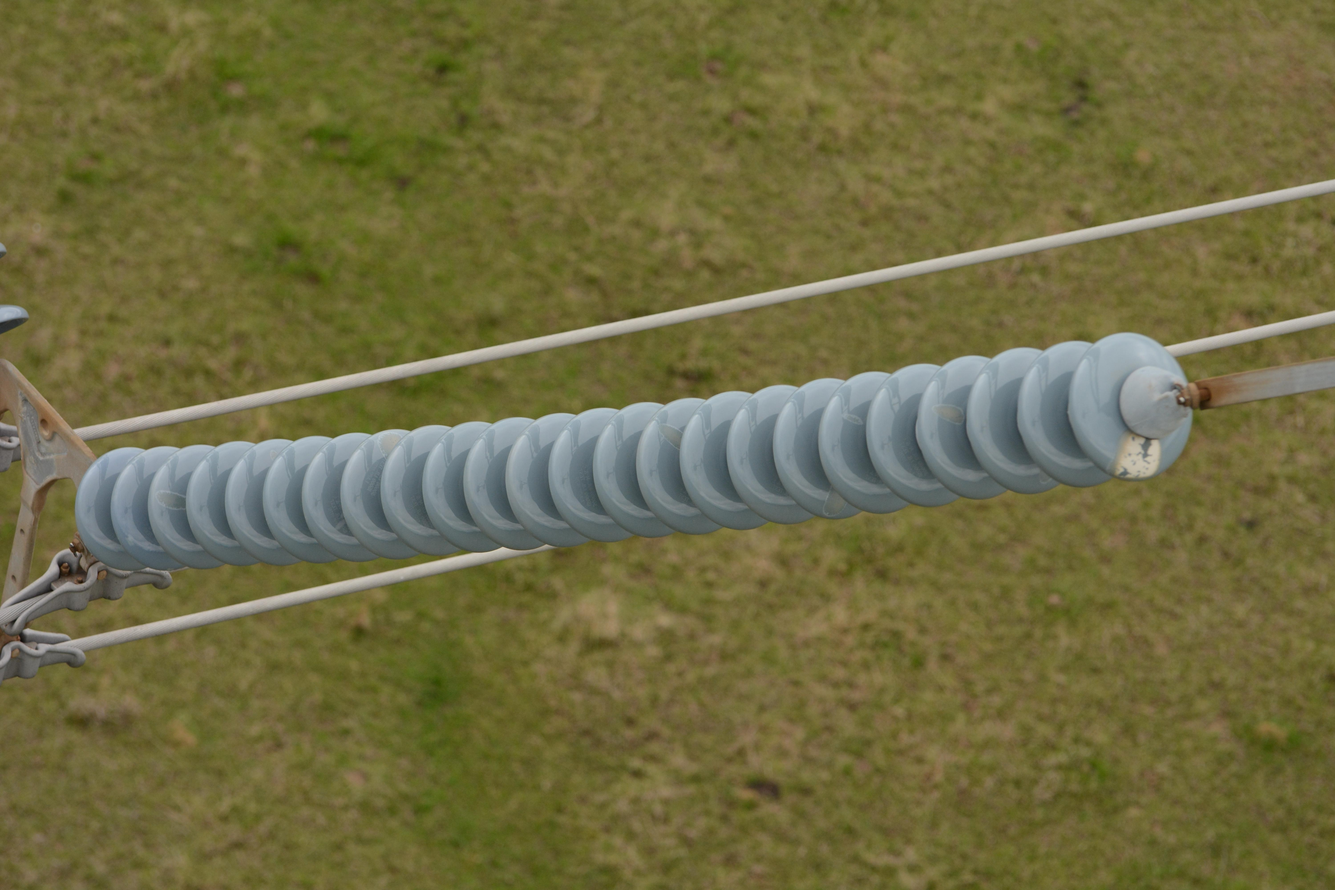Flashover: (1108, 423, 1164, 480), (819, 479, 854, 517), (374, 429, 403, 462), (657, 421, 688, 449), (931, 401, 967, 425), (154, 488, 190, 510)
insulator: (80, 334, 1181, 576)
